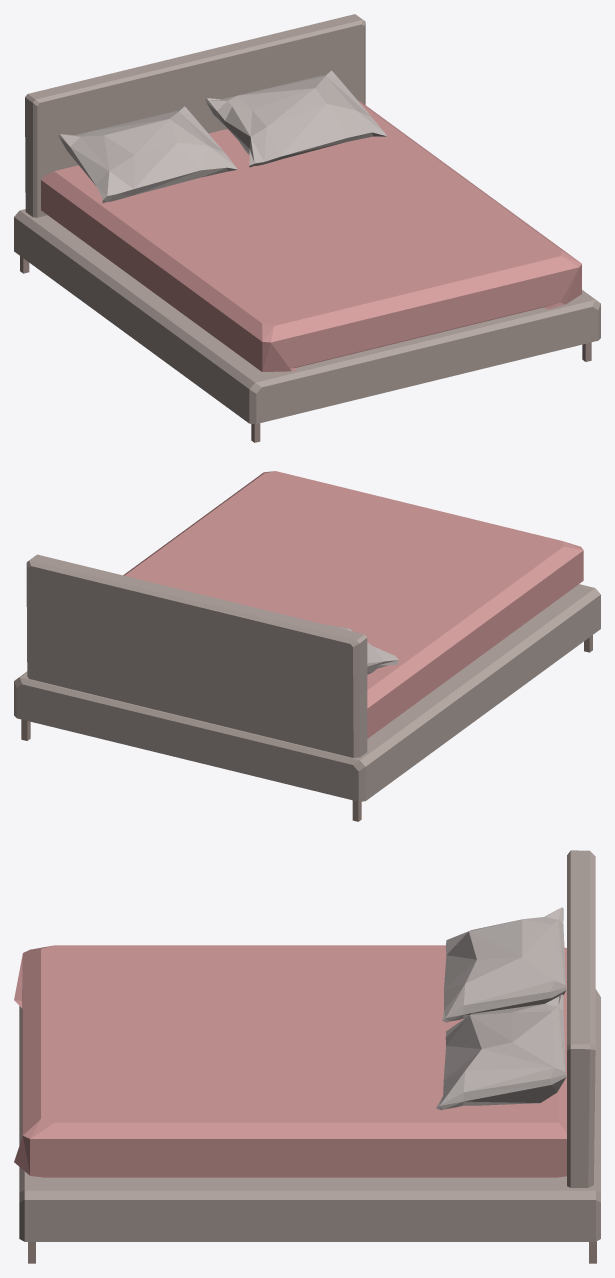
The model's file is litDouble.glb.
3 renders of one model, top to bottom at view 1: azimuth 30°, elevation 25°; view 2: azimuth 150°, elevation 25°; view 3: azimuth 270°, elevation 25°, orthographic. The views are drawn at different scales.
Visible parts, largest first — view 1: New_Game_Object_mat0_0.032; view 2: New_Game_Object_mat0_0.032; view 3: New_Game_Object_mat0_0.032.
Part boxes in pixels (box(x1,y1,x2,y2)): New_Game_Object_mat0_0.032: box(14, 14, 600, 442); New_Game_Object_mat0_0.032: box(14, 471, 600, 821); New_Game_Object_mat0_0.032: box(14, 850, 600, 1263).
Bounding box in the file's own units: 1.26 × 0.6114 × 1.5.
